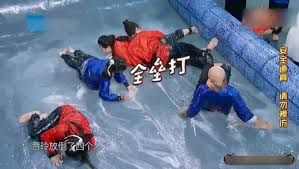fall: (110, 13, 214, 68)
